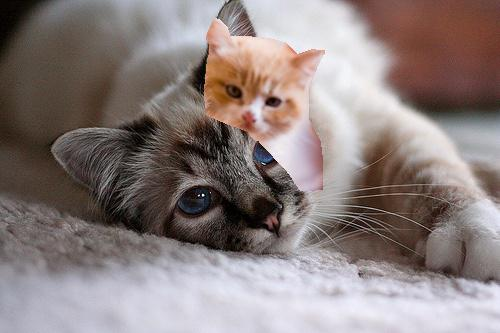tampered: (205, 18, 325, 191)
